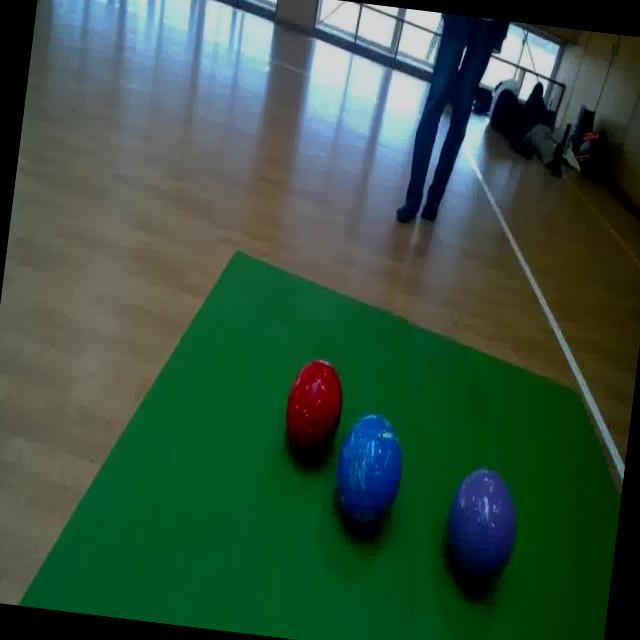blue_ball: (330, 410, 410, 536)
purple_ball: (438, 464, 522, 596)
red_ball: (282, 356, 348, 462)
